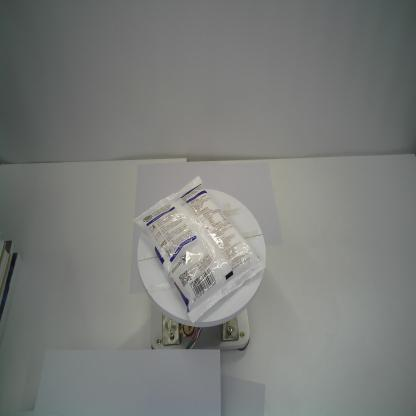Seasoner: (130, 175, 266, 326)
